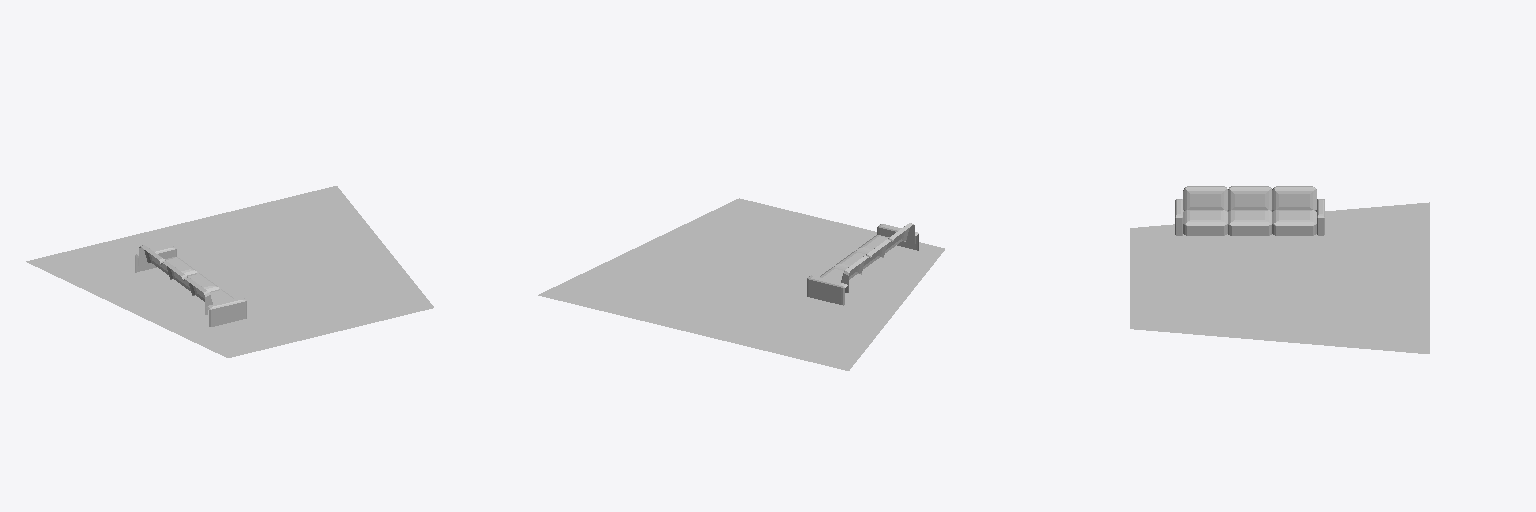
Rendered from dull.obj.
3 renders of one model, left to right at view 1: azimuth 30°, elevation 25°; view 2: azimuth 150°, elevation 25°; view 3: azimuth 270°, elevation 25°, orthographic.
Visible parts, largest first — view 1: pPlane2, polySurface58; view 2: pPlane2, polySurface58; view 3: pPlane2, polySurface58.
Part boxes in pixels (bbox=[...]): pPlane2: bbox=[26, 186, 433, 357]; polySurface58: bbox=[135, 245, 246, 326]; pPlane2: bbox=[538, 198, 944, 370]; polySurface58: bbox=[807, 223, 918, 305]; pPlane2: bbox=[1130, 202, 1429, 353]; polySurface58: bbox=[1175, 186, 1324, 235].
Bounding box in the file's own units: 9.11 × 1.25 × 7.59.